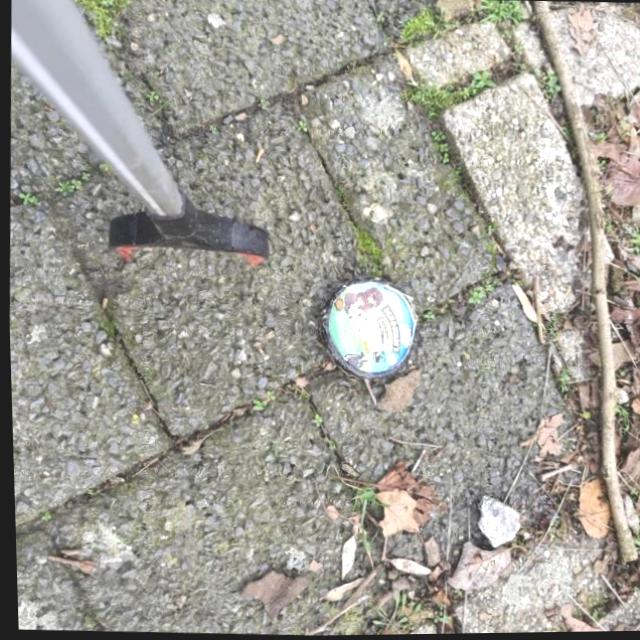Paper: (312, 272, 421, 382)
